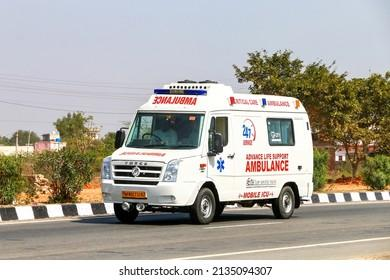ER: (102, 82, 315, 226)
